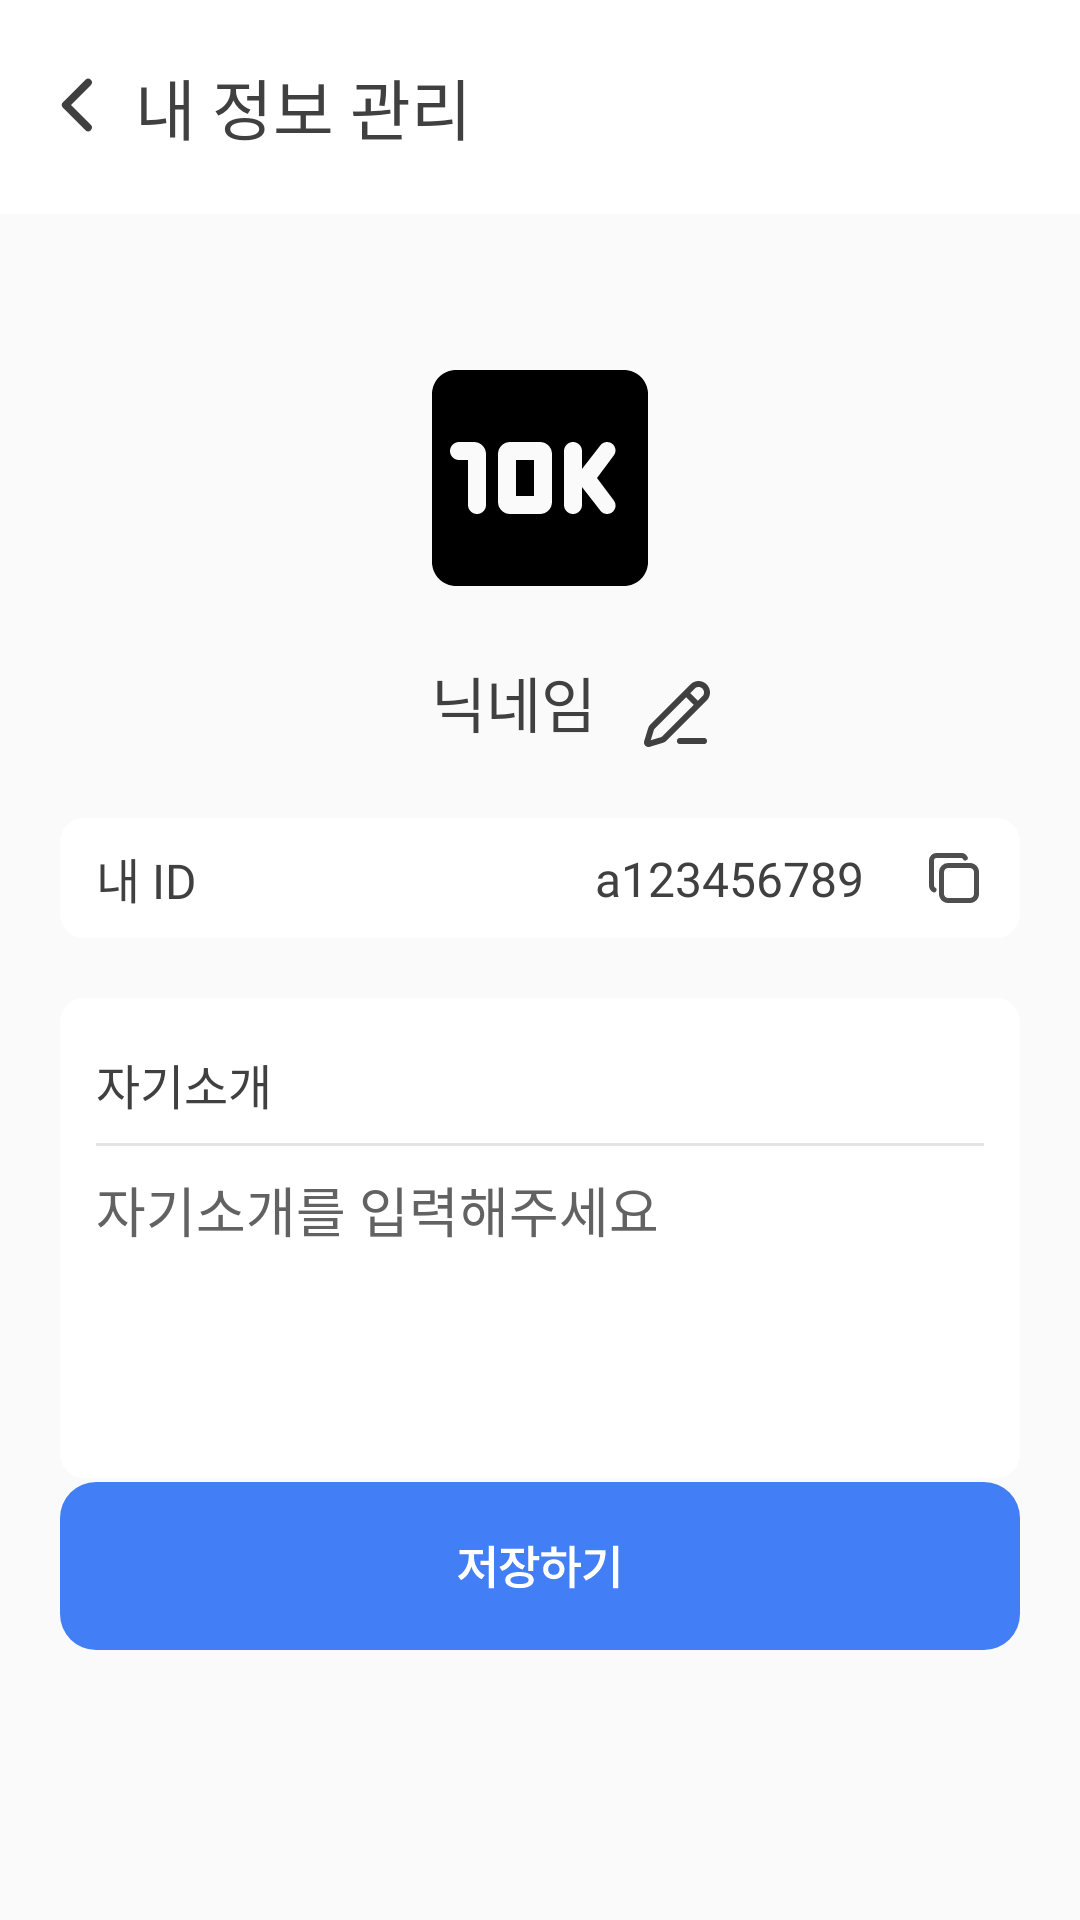

Where to tap for icons on this 1080w x 1920h app screen, as (x,y):
back: (76,105)
edit: (677,714)
